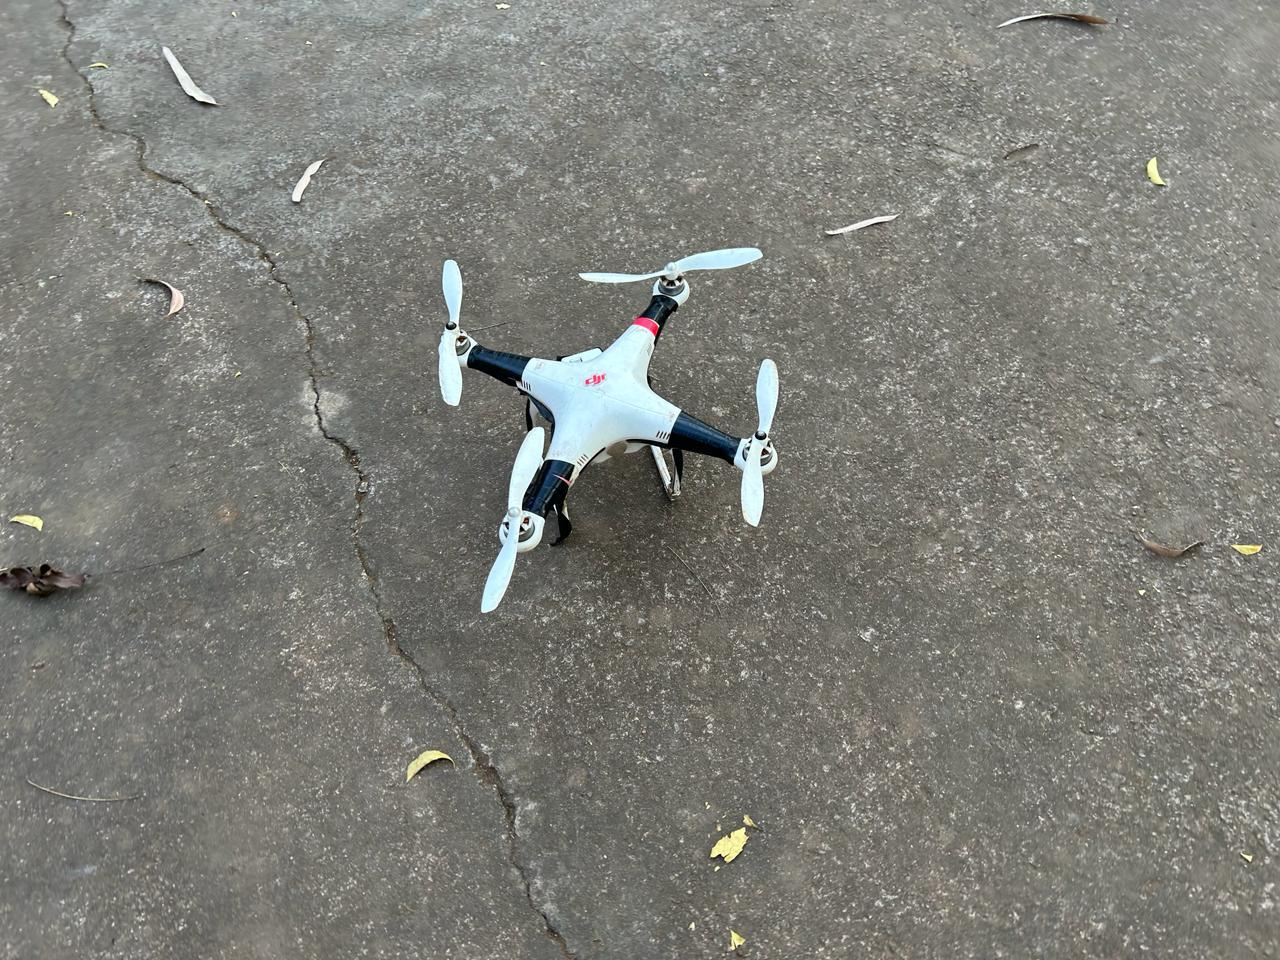drone: (252, 122, 943, 694)
